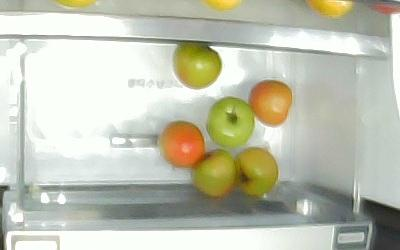tomato: (206, 96, 254, 148), (172, 42, 222, 90), (234, 146, 278, 197), (159, 121, 204, 168), (191, 149, 235, 197), (249, 79, 292, 127)
